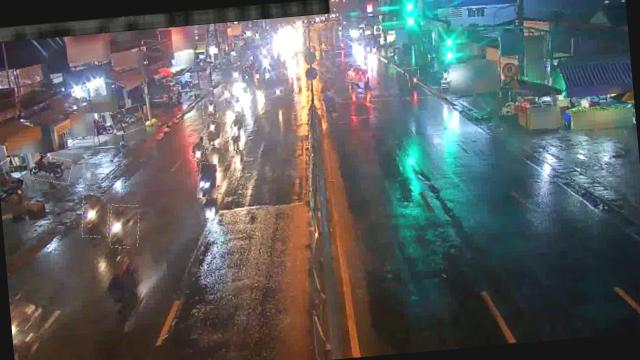Bike: (108, 204, 141, 248), (80, 193, 111, 238), (32, 154, 72, 185), (111, 106, 145, 135), (196, 162, 220, 200), (202, 118, 226, 148), (228, 113, 245, 151), (188, 134, 206, 160), (202, 98, 219, 118), (407, 68, 420, 89), (220, 84, 232, 106)
Car: (345, 63, 369, 84)
